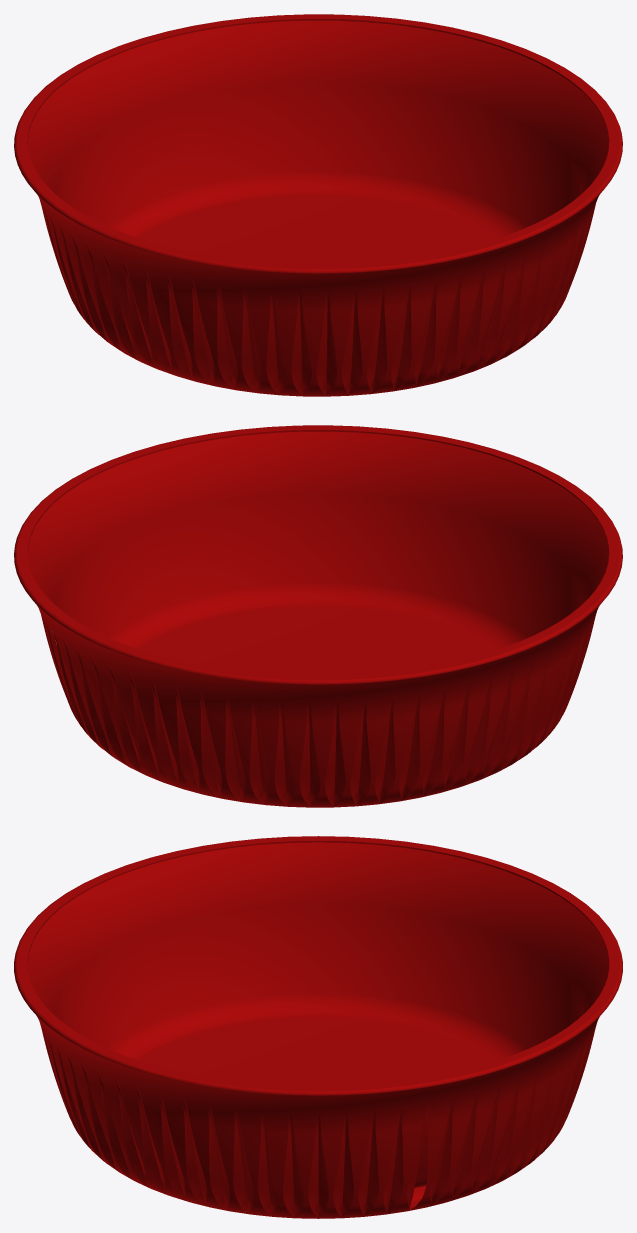
3 renders of one model, top to bottom at view 1: azimuth 30°, elevation 25°; view 2: azimuth 150°, elevation 25°; view 3: azimuth 270°, elevation 25°, orthographic.
Bounding box in the file's own units: 0.178 × 0.052 × 0.1779.
